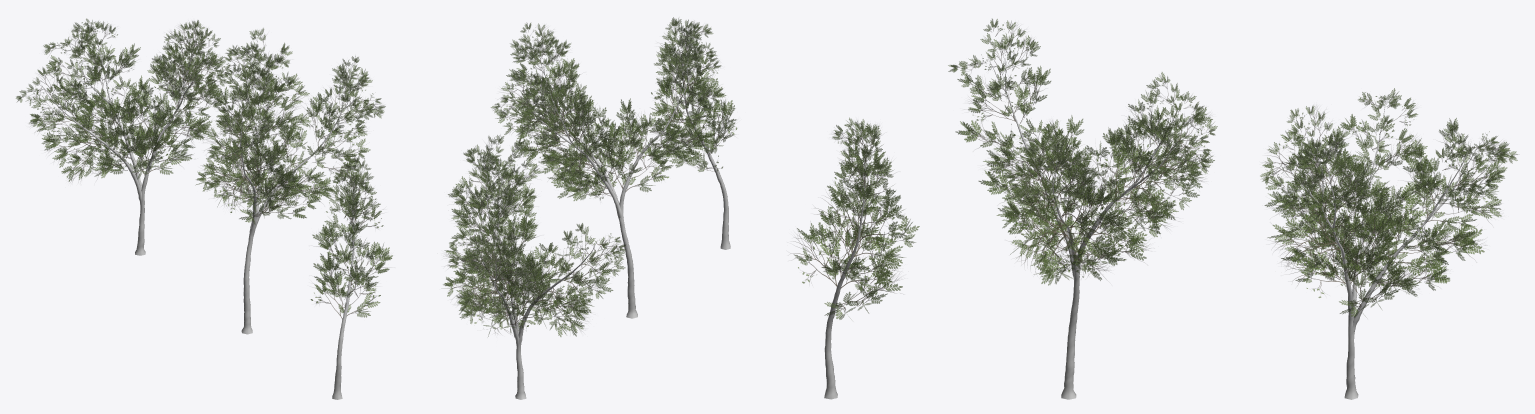
3 views of the same model, side by side, from view 1: azimuth 30°, elevation 25°; view 2: azimuth 150°, elevation 25°; view 3: azimuth 270°, elevation 25° (orthographic). The views are drawn at different scales.
Visible parts, largest first — view 1: foliage, foliage.001, foliage.002, structure.001, structure, structure.002; view 2: foliage.001, foliage, foliage.002, structure.001, structure, structure.002; view 3: foliage.001, foliage, foliage.002, structure, structure.001, structure.002.
Boxes of the visible parts, x1,y1,x2,y2 form: foliage: (16, 18, 230, 181); foliage.001: (196, 28, 385, 224); foliage.002: (310, 155, 392, 319); structure.001: (240, 50, 359, 334); structure: (42, 29, 201, 255); structure.002: (332, 174, 355, 399); foliage.001: (491, 22, 726, 200); foliage: (443, 135, 625, 336); foliage.002: (648, 17, 736, 171); structure.001: (520, 51, 700, 318); structure: (474, 164, 596, 399); structure.002: (681, 34, 730, 249); foliage.001: (948, 19, 1217, 285); foliage: (1260, 88, 1517, 317); foliage.002: (793, 117, 919, 319); structure: (1280, 101, 1481, 399); structure.001: (987, 54, 1181, 399); structure.002: (824, 140, 865, 399).
Bounding box in the file's own units: 89.69 × 98.59 × 183.
